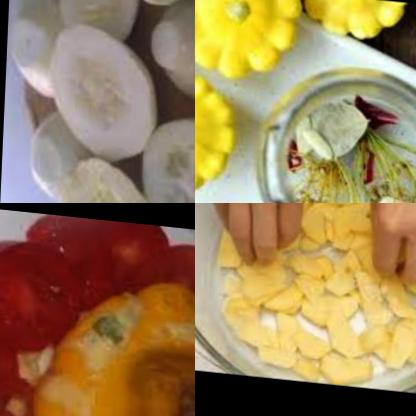garlic: (300, 117, 340, 159)
potato: (205, 203, 416, 388)
squash-patisson: (50, 271, 195, 416), (47, 17, 169, 172), (195, 0, 307, 85), (8, 0, 79, 101), (22, 99, 96, 193), (195, 56, 244, 195), (49, 145, 165, 203), (138, 0, 195, 108), (137, 101, 195, 203), (40, 0, 135, 60), (298, 0, 402, 43)
tomato: (30, 210, 195, 307), (0, 227, 83, 356), (0, 303, 61, 416)
